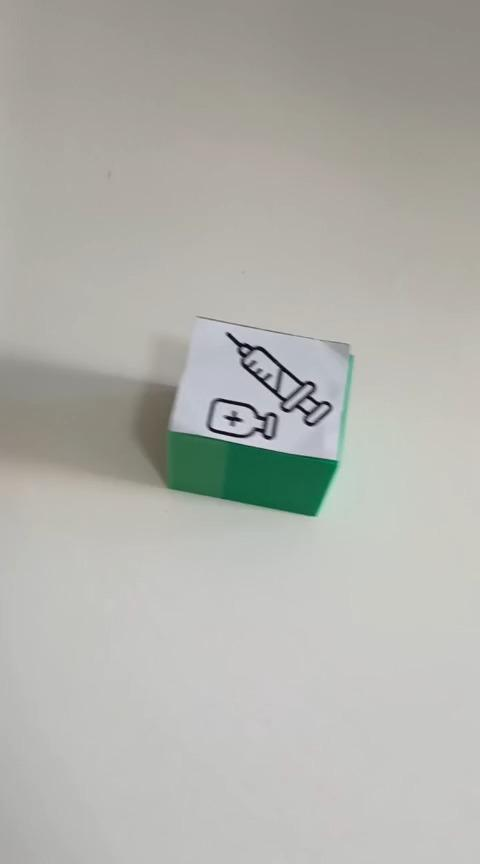antiseptic cream: (164, 314, 354, 517)
